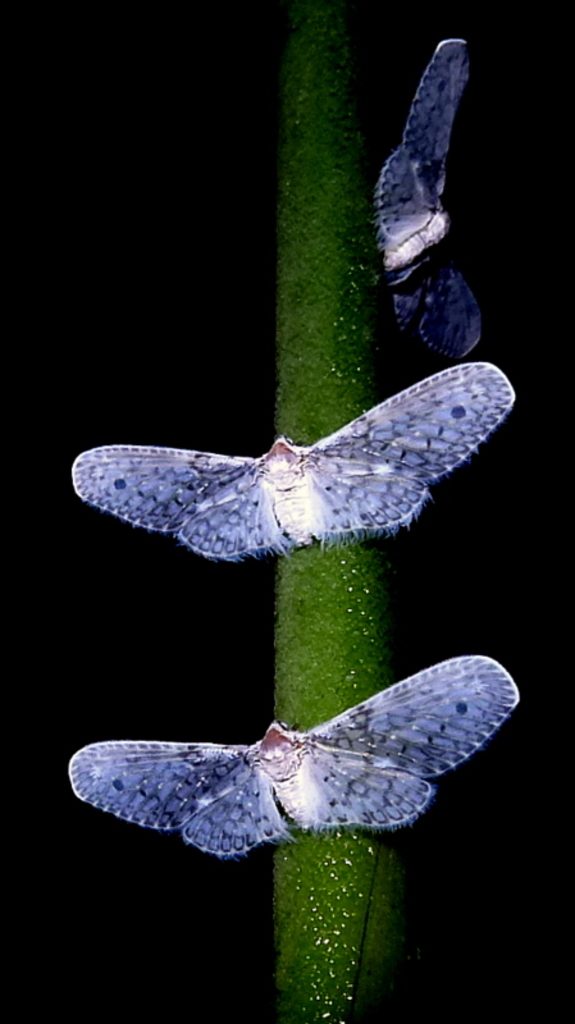Butterfly: (29, 652, 543, 880), (55, 358, 530, 579), (368, 31, 527, 381)
